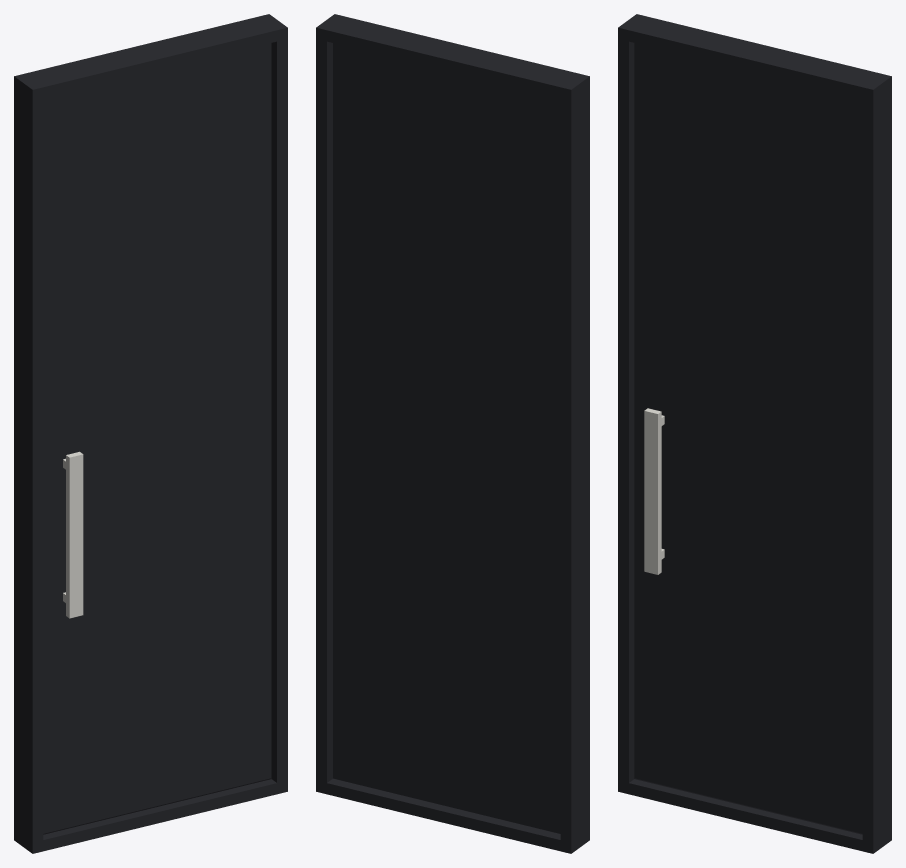
File: SM_Opening_Door07423_Black_01.gltf
The picture shows the model from 3 angles, left to right: view 1: azimuth 30°, elevation 25°; view 2: azimuth 150°, elevation 25°; view 3: azimuth 330°, elevation 25°; orthographic projection.
Visible parts, largest first — view 1: SM_Opening_Door07423_Black_01; view 2: SM_Opening_Door07423_Black_01; view 3: SM_Opening_Door07423_Black_01.
Part boxes in pixels (x1,y1,x2,y2): SM_Opening_Door07423_Black_01: [14, 14, 287, 853]; SM_Opening_Door07423_Black_01: [316, 14, 589, 853]; SM_Opening_Door07423_Black_01: [618, 14, 891, 853].
Size of the model in its own units: 0.83 by 2.38 by 0.135.
Materials: 1 (1 with a texture image).
